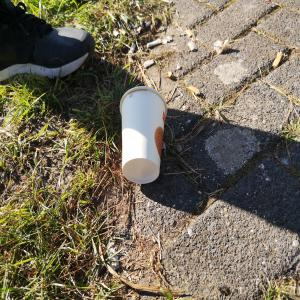Cup: (120, 87, 169, 186)
